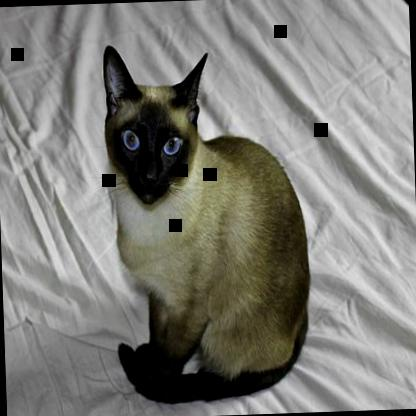cat: (100, 37, 316, 406)
